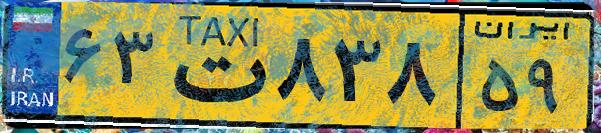3: (330, 28, 385, 110), (110, 28, 158, 98)
5: (475, 38, 525, 113)
6: (57, 26, 110, 100)
8: (270, 28, 330, 110), (385, 28, 445, 110)
9: (525, 38, 570, 115)
ت: (158, 12, 270, 120)
